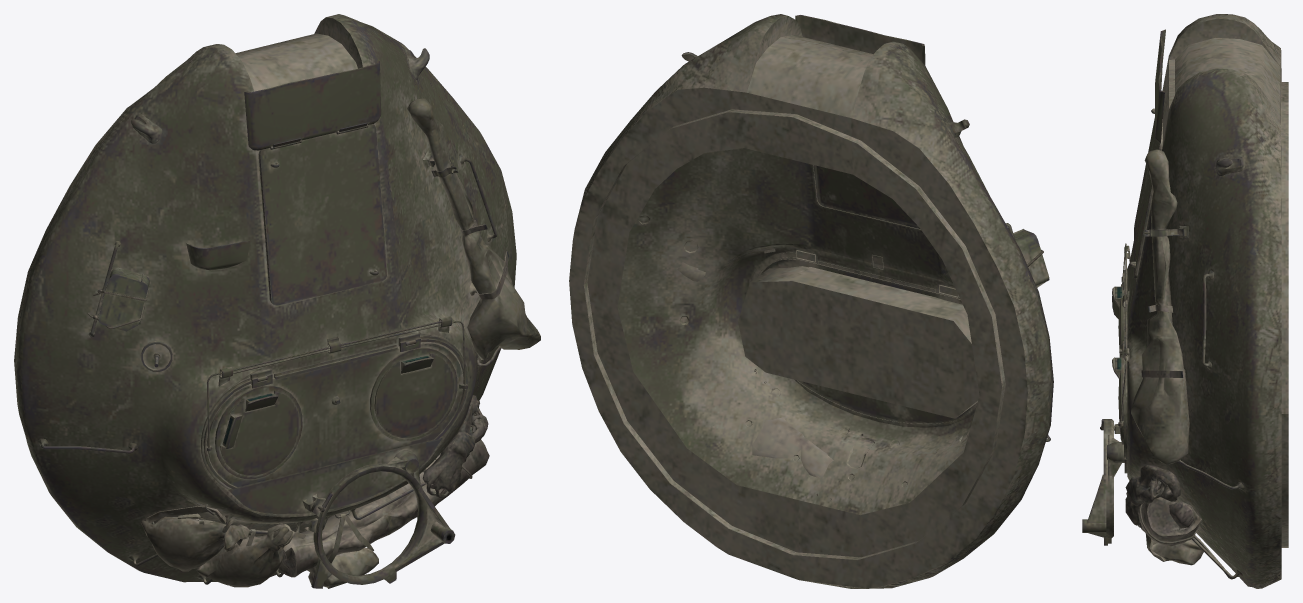
The model's file is Turret_01.glb.
3 views of the same model, side by side, from view 1: azimuth 30°, elevation 25°; view 2: azimuth 150°, elevation 25°; view 3: azimuth 270°, elevation 25° (orthographic). The views are drawn at different scales.
Visible parts, largest first — view 1: set_0_group_0; view 2: set_0_group_0; view 3: set_0_group_0.
Boxes of the visible parts, x1,y1,x2,y2 form: set_0_group_0: (14,14,540,588); set_0_group_0: (569,14,1053,588); set_0_group_0: (1082,14,1288,588).
Size of the model in its own units: 2.86 by 3.05 by 1.1.
Materials: 1 (1 with a texture image).
